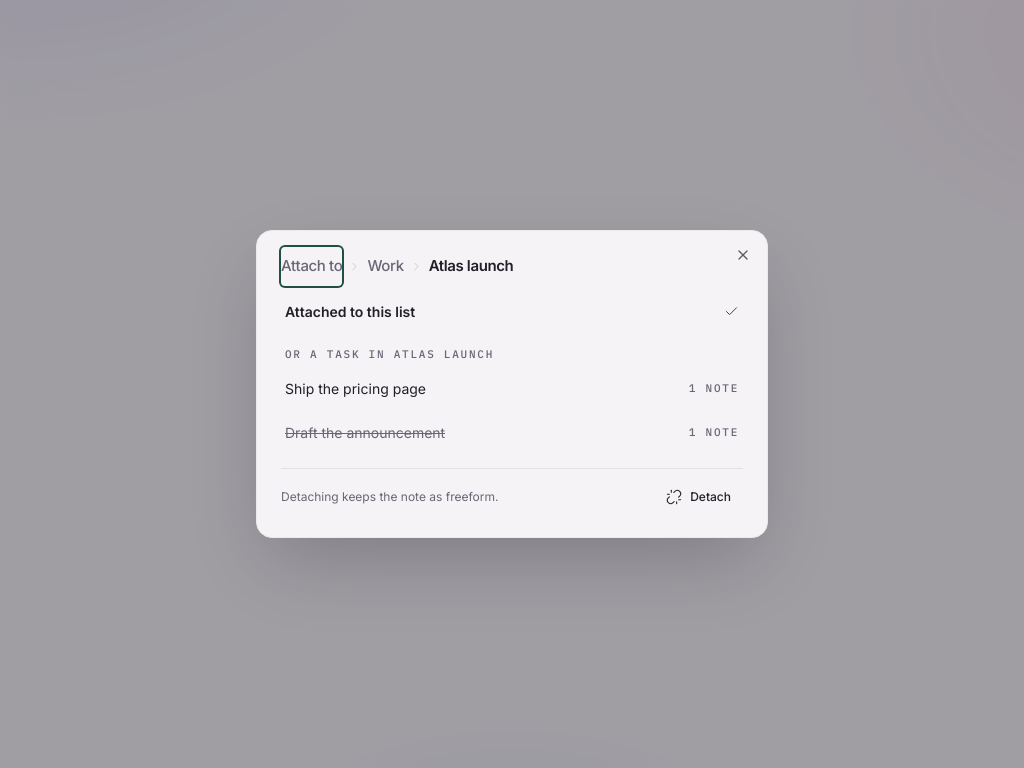
Test: AttachPicker › the breadcrumb steps back
Check: the button "Attached to this list" is shown, box [273,290,751,334]
What coordinates should you click on to do the following:
click the button "Work"
I would click on:
 (386, 266)
Its box is [367,247,404,286].
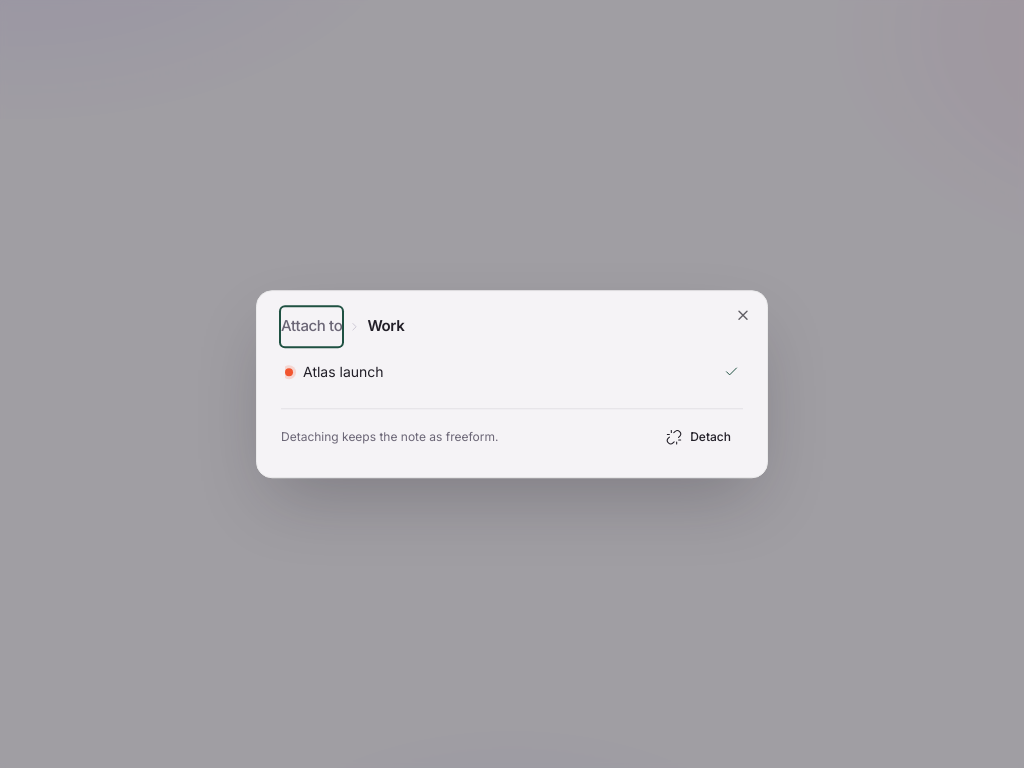
Check: the icon named "Current attachment" is shown, box [724,364,739,379]
Check: the text "Or a task in" is gone
What coordinates should you click on to do the following:
click the button "Attach to"
I would click on:
 (312, 327)
Its box is [281,307,342,346].
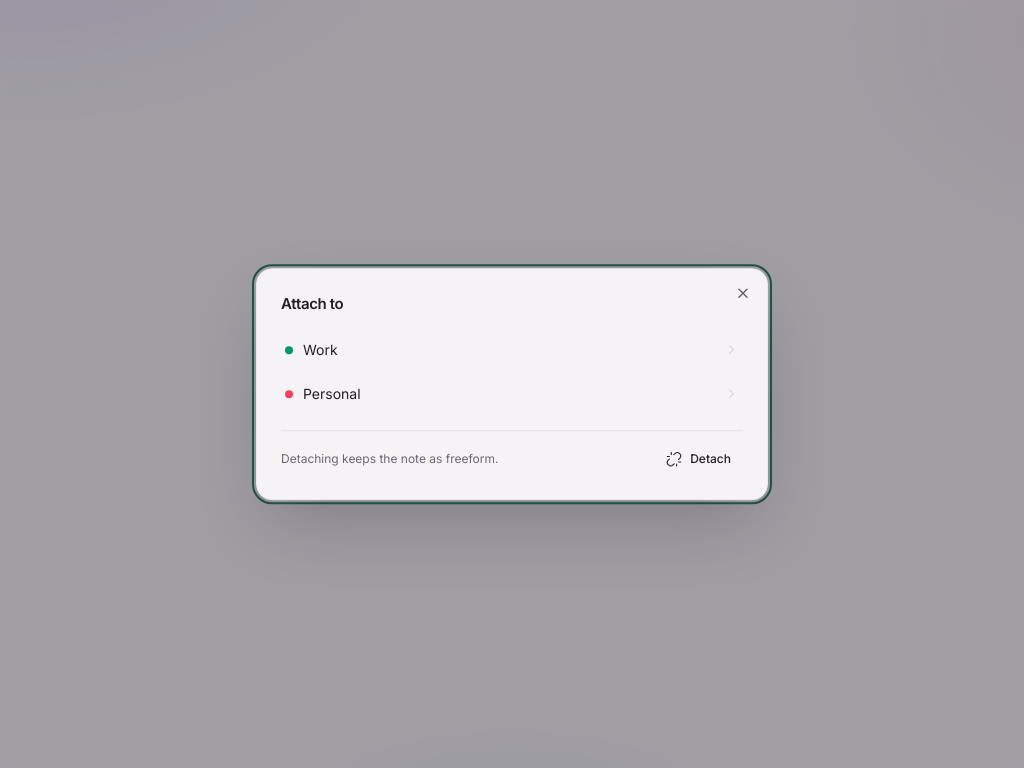
Check: the button "Personal" is shown, box [273,372,751,416]
